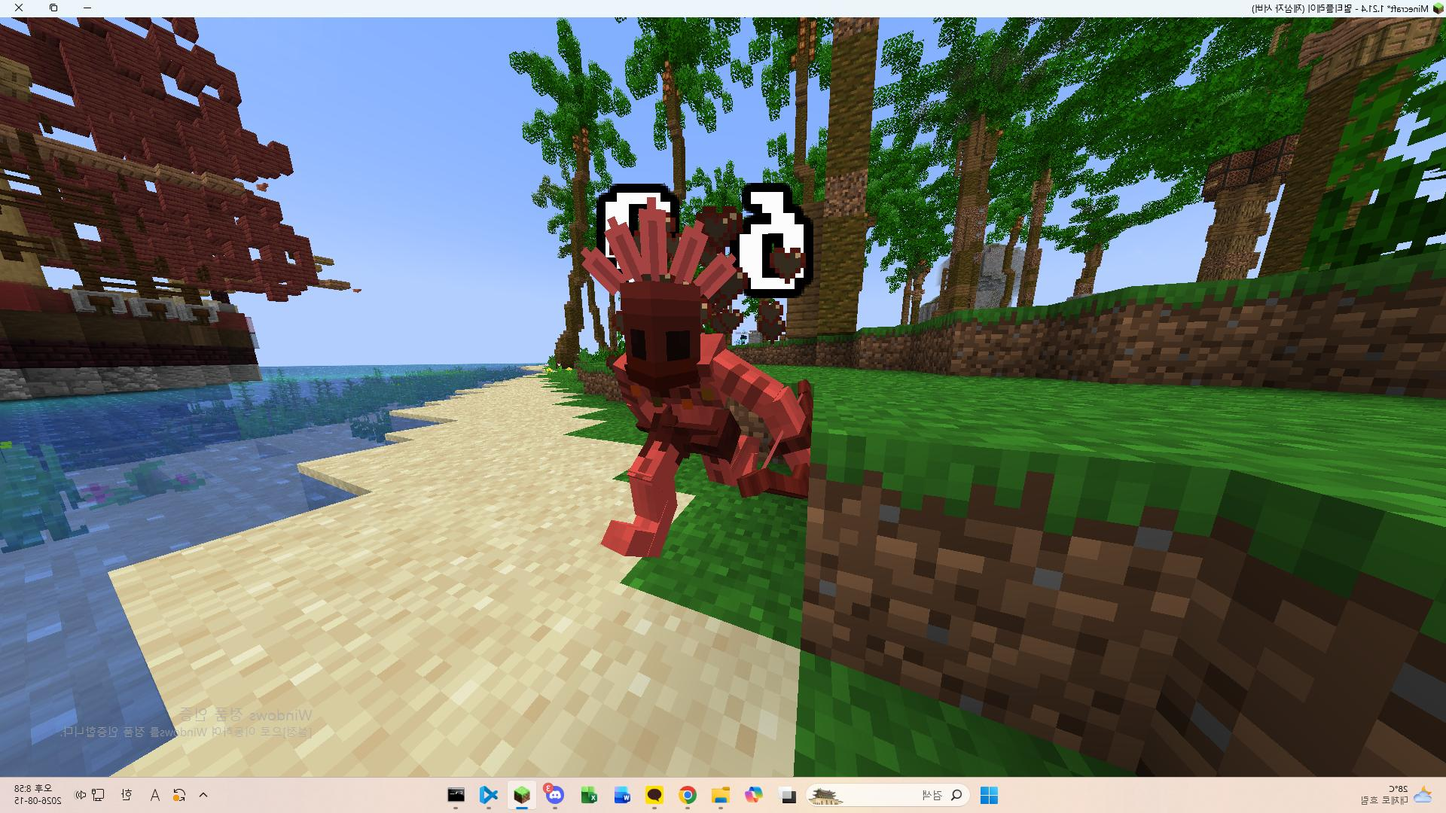bow_indian: (499, 186, 855, 599)
